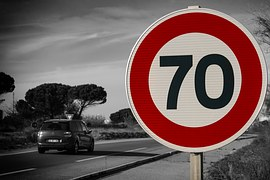Speed_limit_70km: (126, 8, 267, 153)
